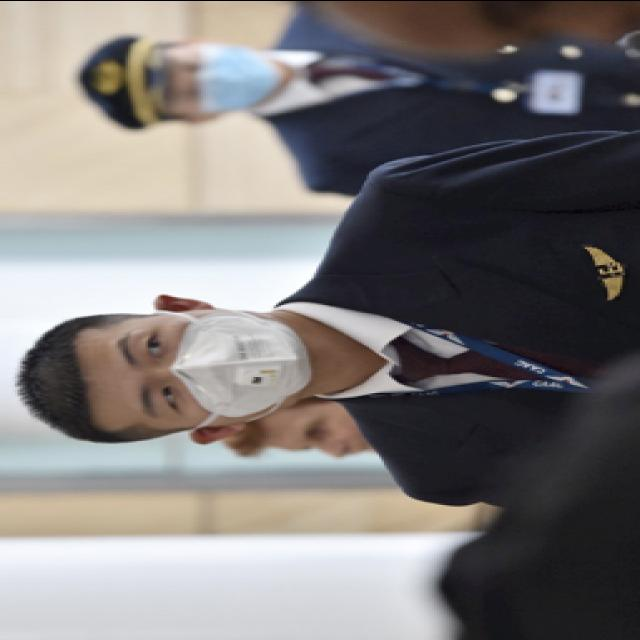with_mask: (108, 308, 306, 431), (165, 42, 284, 114)
